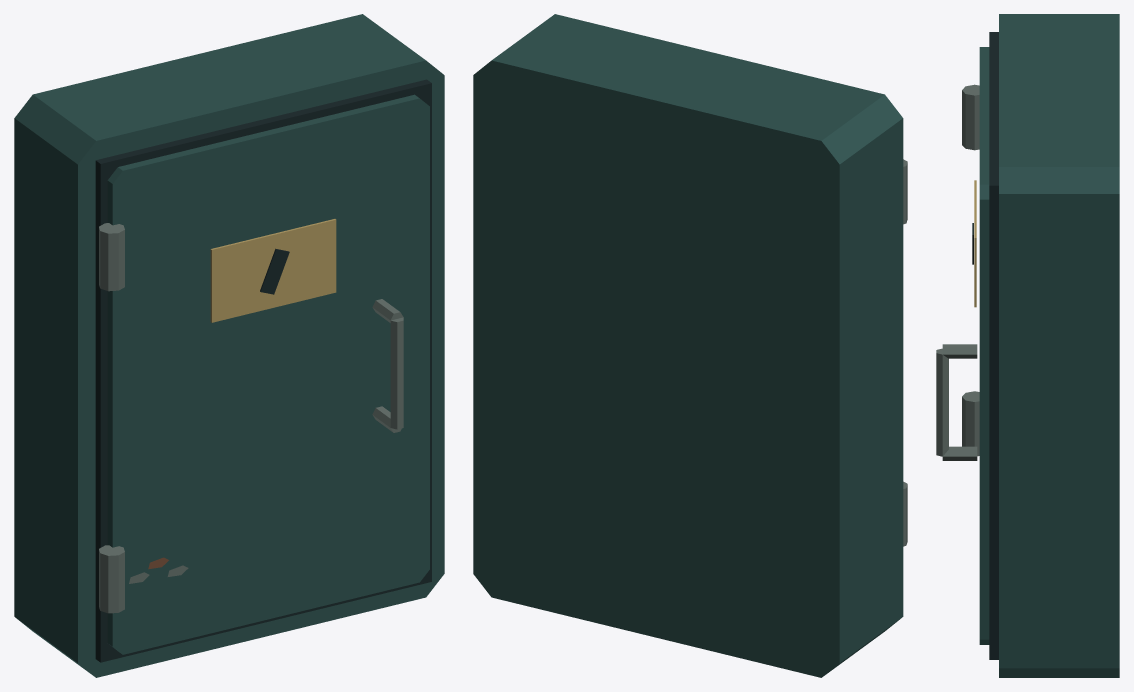
Rendered from electrical-box.glb.
3 views of the same model, side by side, from view 1: azimuth 30°, elevation 25°; view 2: azimuth 150°, elevation 25°; view 3: azimuth 270°, elevation 25° (orthographic). The views are drawn at different scales.
Parts seen in each view (by area): view 1: electrical-box; view 2: electrical-box; view 3: electrical-box.
Part boxes in pixels (bbox=[...]): electrical-box: bbox=[14, 14, 444, 677]; electrical-box: bbox=[473, 14, 907, 677]; electrical-box: bbox=[936, 14, 1119, 677].
Bounding box in the file's own units: 0.5 × 0.71 × 0.2278.
